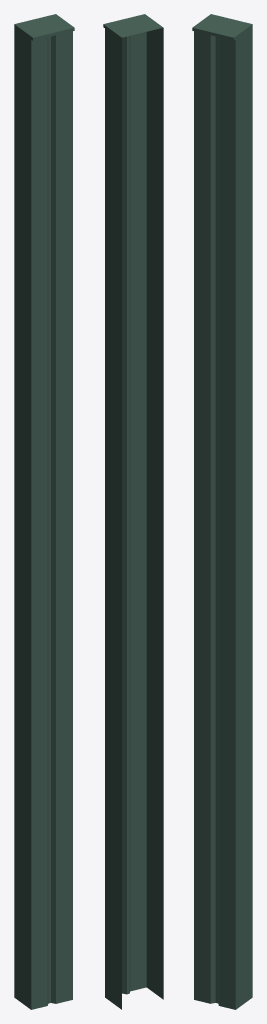
The picture shows the model from 3 angles, left to right: view 1: azimuth 30°, elevation 25°; view 2: azimuth 210°, elevation 25°; view 3: azimuth 330°, elevation 25°; orthographic projection.
Visible parts, largest first — view 1: Column.037; view 2: Column.037; view 3: Column.037.
Part boxes in pixels (left/top/right/bottom): Column.037: left=14, top=14, right=74, bottom=1009; Column.037: left=103, top=14, right=163, bottom=1009; Column.037: left=192, top=14, right=252, bottom=1009.
Bounding box in the file's own units: 278 × 6223 × 217.
